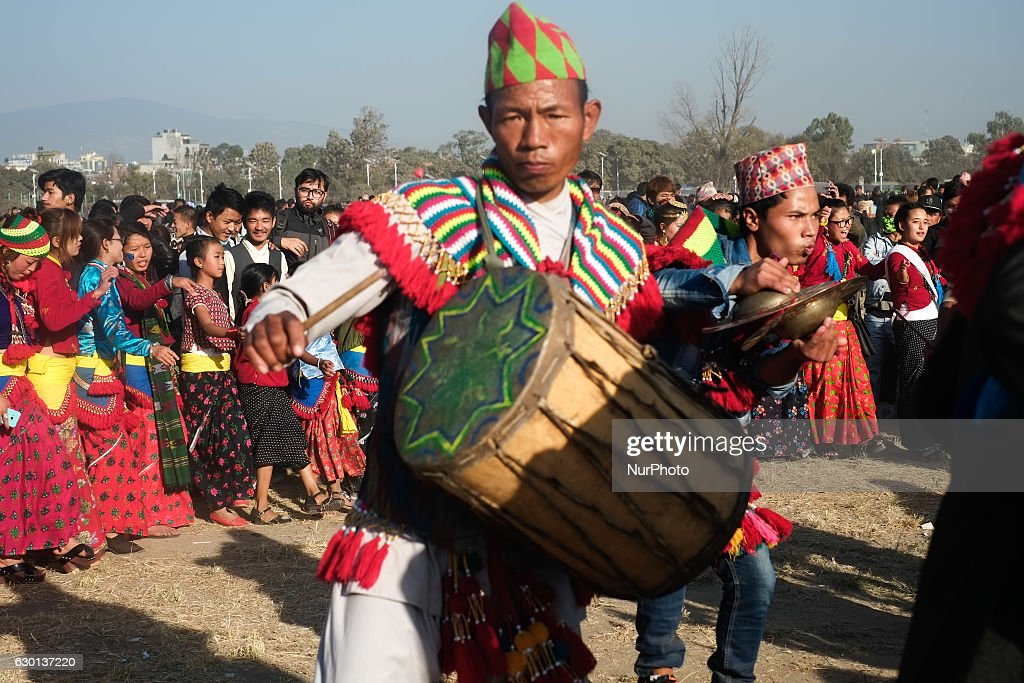human: (219, 4, 684, 683), (628, 138, 844, 683), (1, 201, 107, 585), (115, 224, 203, 556), (171, 227, 246, 545), (83, 206, 145, 568), (806, 197, 882, 459), (875, 192, 958, 422)
